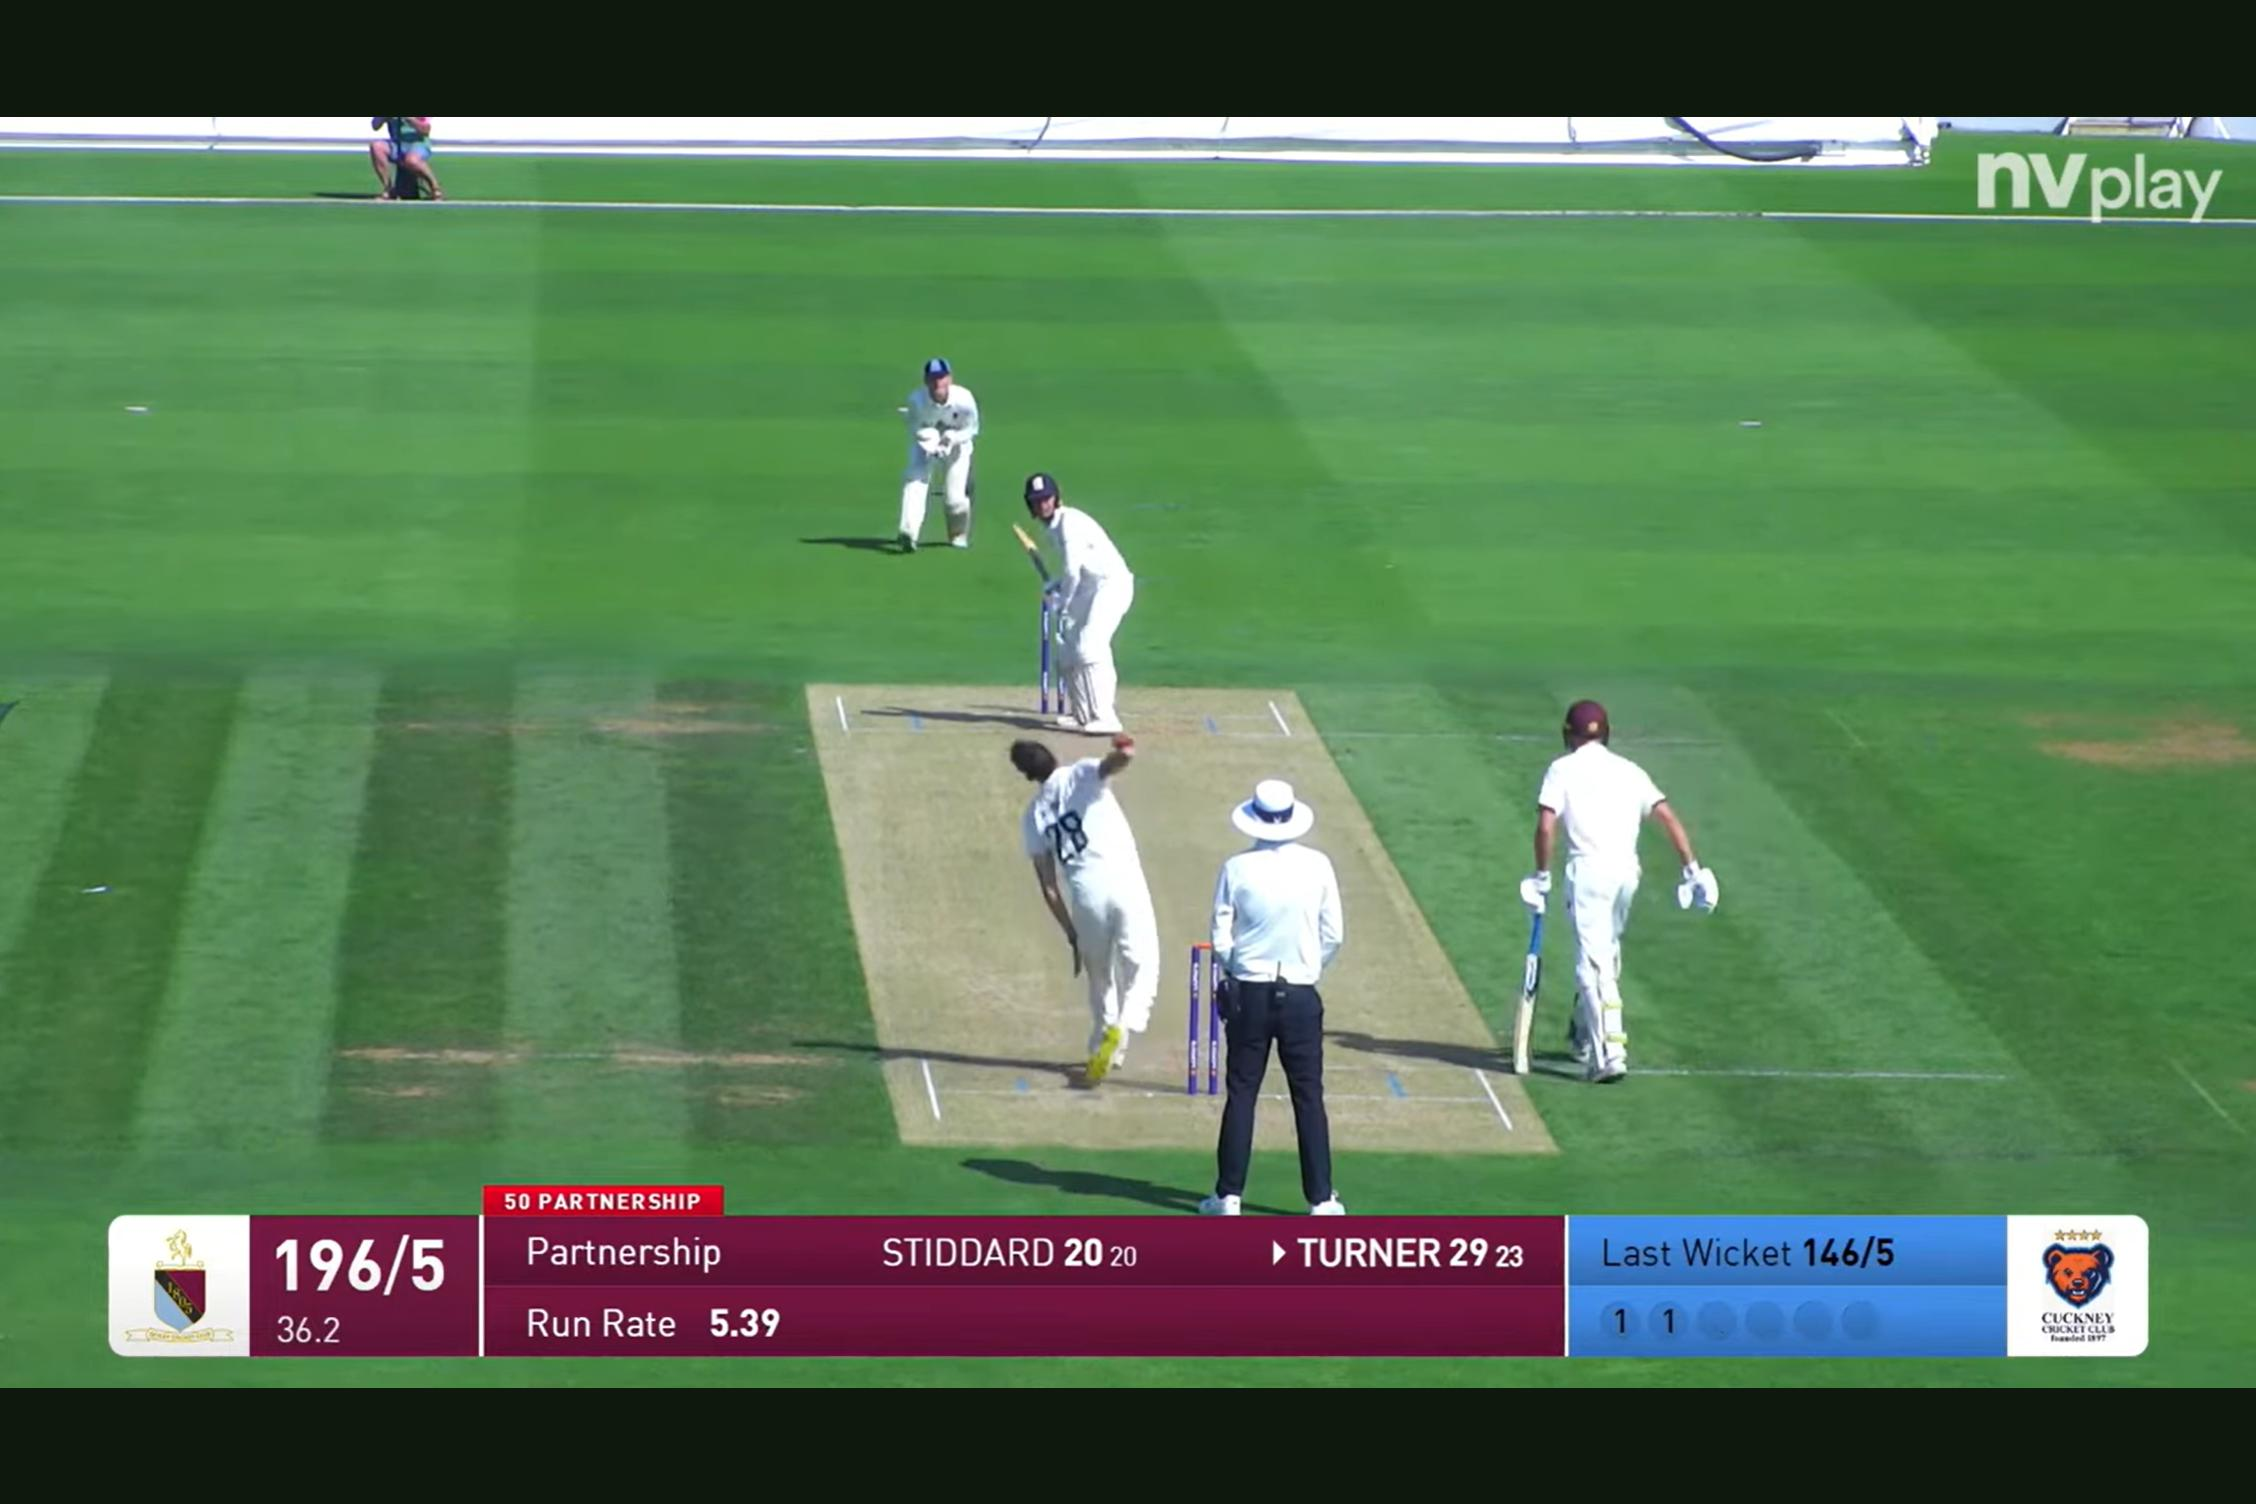bowler running in: (960, 703, 1182, 1094)
non striker: (1486, 681, 1700, 1123)
umpire: (1207, 749, 1381, 1198)
wicket keeper: (866, 347, 990, 581)
